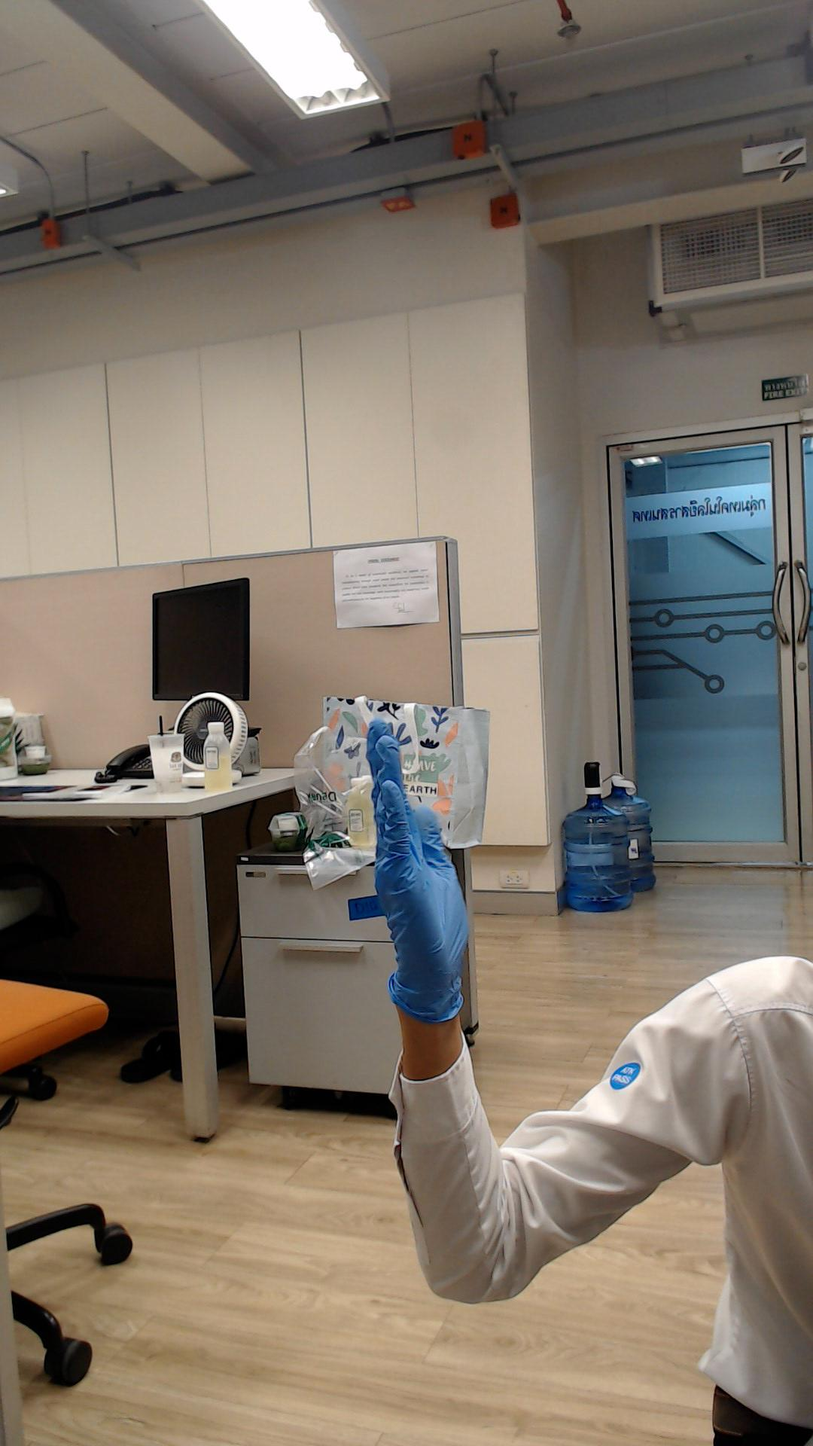gloves: (337, 698, 490, 955)
